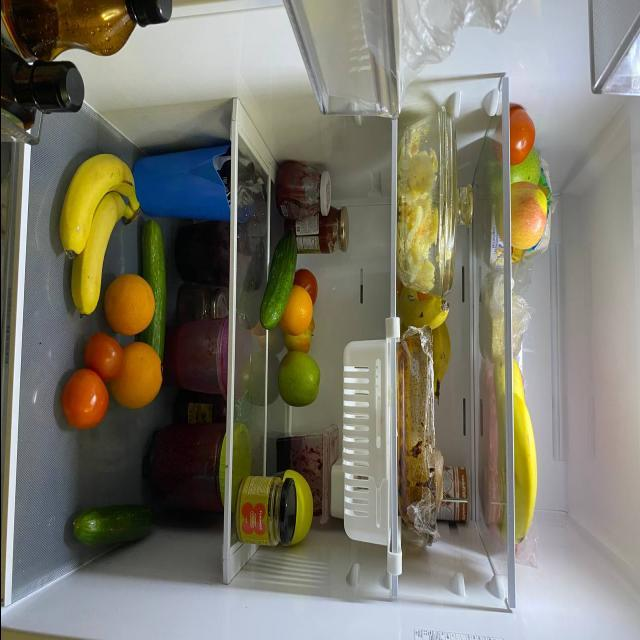Apple: (497, 184, 550, 254), (274, 342, 322, 412), (505, 148, 546, 198), (287, 312, 313, 354)
Banana: (58, 138, 138, 320), (493, 354, 542, 562), (398, 274, 450, 382)
Cucumber: (55, 480, 158, 550), (140, 219, 173, 373), (260, 215, 299, 334)
Orange: (115, 336, 164, 418), (105, 265, 158, 339), (279, 284, 317, 344)
Tomato: (56, 365, 113, 439), (77, 330, 121, 380), (507, 104, 539, 166), (293, 262, 318, 306)
